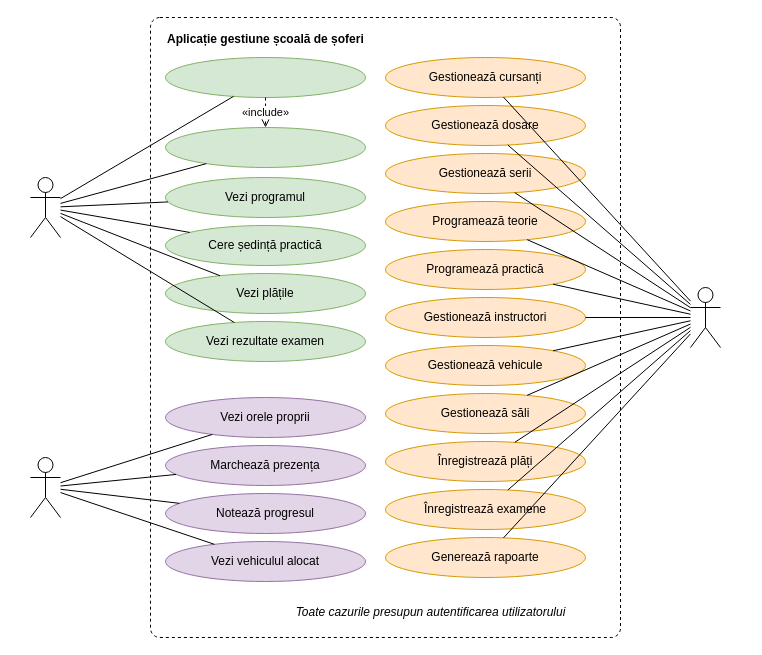
This 762x655 diagram has some shape labels left out. The shapes that lost their labels are listed below. From the top down, each one's centre as x and y in pixels, then its label:
At (x=265, y=77): "Depune dosar".
At (x=265, y=147): "Alege categoria".
At (x=45, y=207): "Cursant".
At (x=705, y=317): "Administrator".
At (x=45, y=487): "Instructor".
